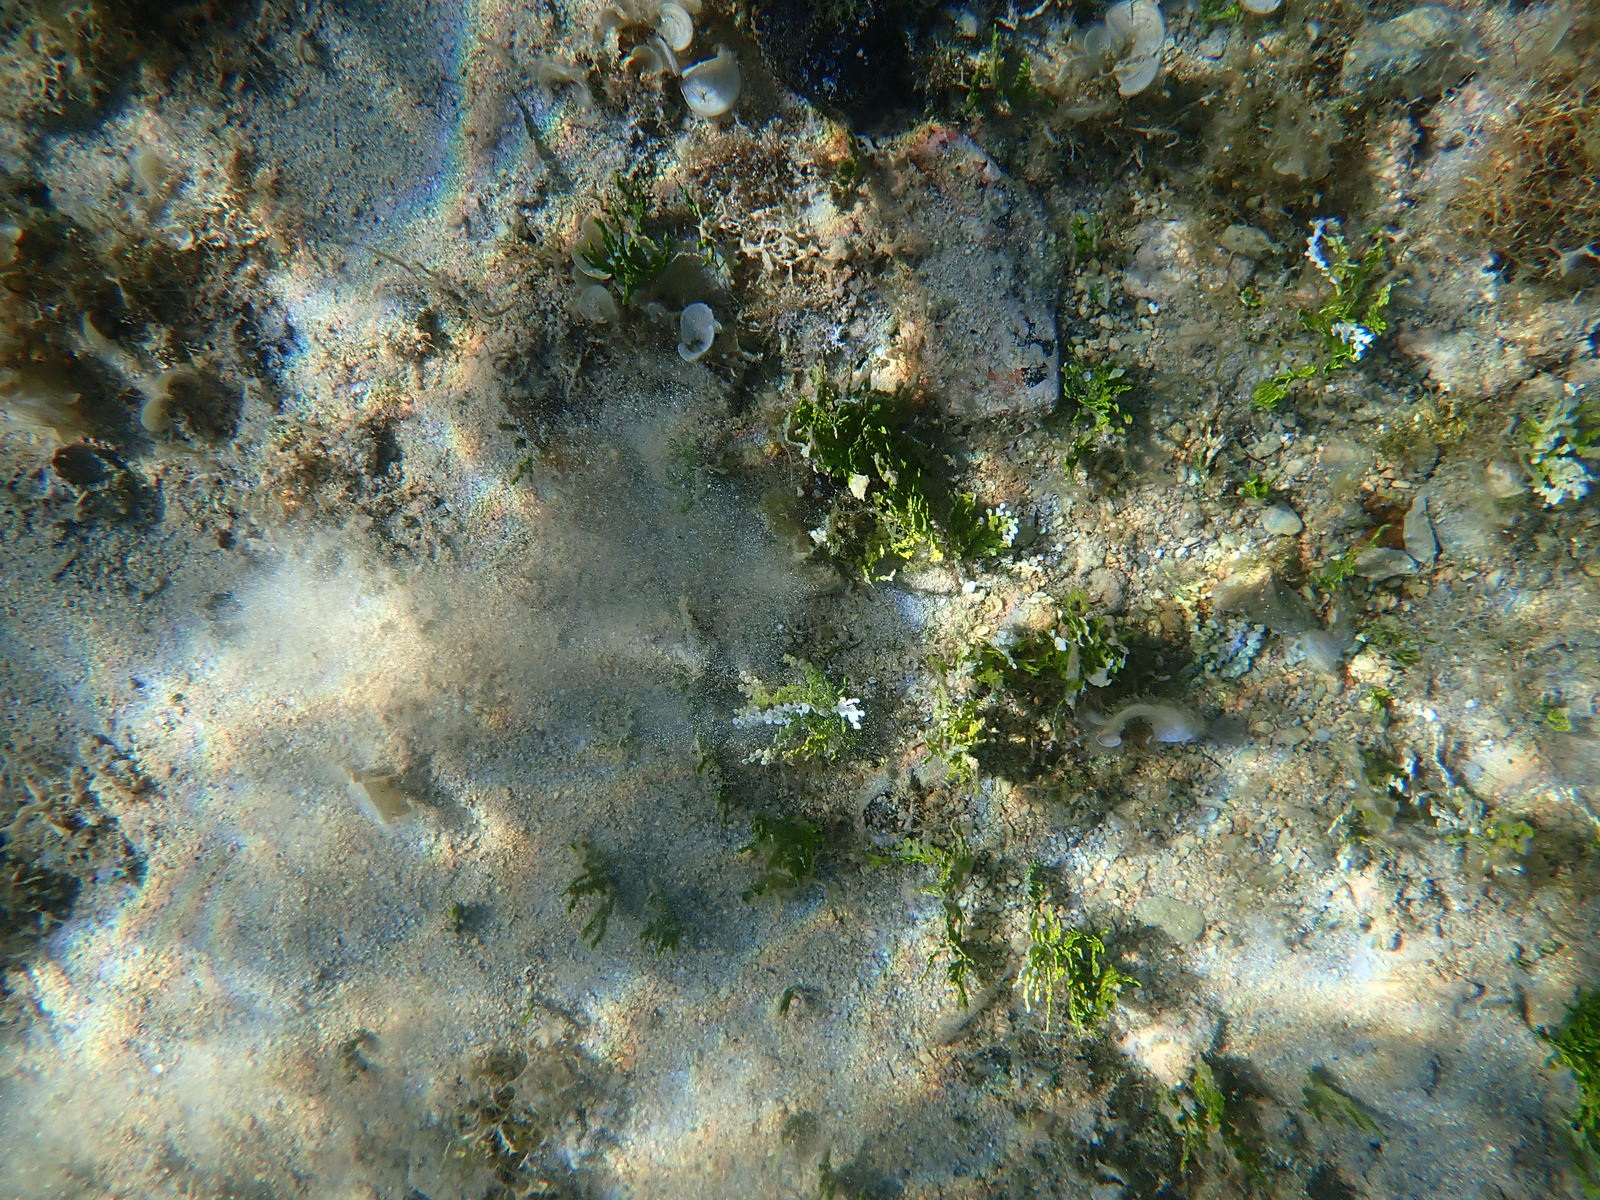halimeda: (786, 386, 908, 589), (732, 672, 863, 763), (1013, 867, 1073, 1024), (1060, 355, 1135, 473), (737, 816, 824, 899), (1524, 405, 1592, 504), (910, 413, 951, 568), (1425, 795, 1537, 851), (1060, 592, 1126, 684), (946, 818, 975, 1015), (1310, 228, 1351, 363), (1180, 616, 1269, 676), (955, 490, 1018, 565), (1304, 1071, 1378, 1133), (1065, 926, 1102, 1036), (869, 836, 973, 875), (637, 894, 679, 954), (699, 753, 734, 823), (1188, 431, 1227, 487), (1193, 1060, 1225, 1127), (925, 751, 984, 785), (564, 872, 619, 909), (1541, 1029, 1591, 1066), (1571, 1069, 1594, 1150), (1015, 633, 1054, 678), (612, 203, 632, 290), (970, 648, 1028, 676), (581, 894, 611, 945), (981, 672, 1015, 708), (1371, 284, 1392, 342), (1337, 802, 1364, 846), (929, 654, 949, 713), (923, 729, 986, 747), (1101, 964, 1120, 1024), (1251, 379, 1289, 407), (1313, 561, 1358, 582), (1542, 707, 1577, 734), (580, 245, 609, 276), (614, 175, 637, 212), (677, 183, 700, 219), (920, 947, 940, 988), (1369, 623, 1393, 657), (779, 653, 816, 674), (595, 219, 614, 262), (564, 841, 593, 868), (1180, 1122, 1196, 1174), (814, 359, 833, 400), (1368, 684, 1392, 716), (990, 25, 1003, 84), (968, 64, 980, 122), (1072, 216, 1089, 260), (1240, 479, 1277, 498), (941, 892, 963, 925), (780, 982, 799, 1017), (1372, 754, 1396, 782), (1364, 231, 1374, 295), (957, 703, 985, 726), (629, 241, 648, 274), (695, 234, 714, 267), (1351, 321, 1364, 366), (1112, 967, 1140, 988), (1235, 289, 1261, 310), (1283, 367, 1327, 379), (1373, 521, 1391, 550), (1571, 1005, 1592, 1026), (1294, 305, 1310, 333), (1153, 1083, 1173, 1104), (843, 357, 854, 391), (1020, 57, 1031, 95), (447, 903, 461, 928), (922, 882, 947, 896), (1400, 649, 1419, 666), (1346, 550, 1364, 566), (1374, 239, 1386, 262), (636, 187, 646, 212), (518, 1000, 527, 1026), (664, 234, 670, 261), (1424, 639, 1432, 648)
